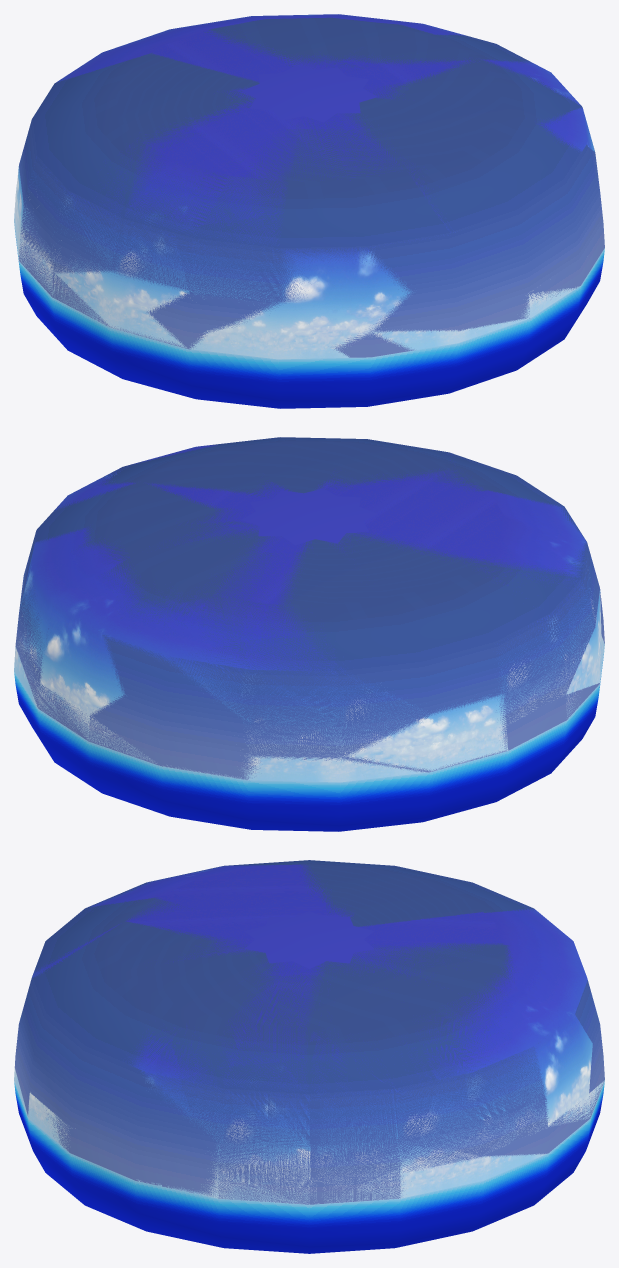
File: stage-beac-sky.glb
The picture shows the model from 3 angles, top to bottom: view 1: azimuth 30°, elevation 25°; view 2: azimuth 150°, elevation 25°; view 3: azimuth 270°, elevation 25°; orthographic projection.
Visible parts, largest first — view 1: sky; view 2: sky; view 3: sky.
Part boxes in pixels (x1=…): sky: x1=14, y1=14, x2=604, y2=408; sky: x1=14, y1=437, x2=604, y2=831; sky: x1=14, y1=860, x2=604, y2=1253.
Bounding box in the file's own units: 3605 × 1627 × 3605.
5 materials, 5 textured.
